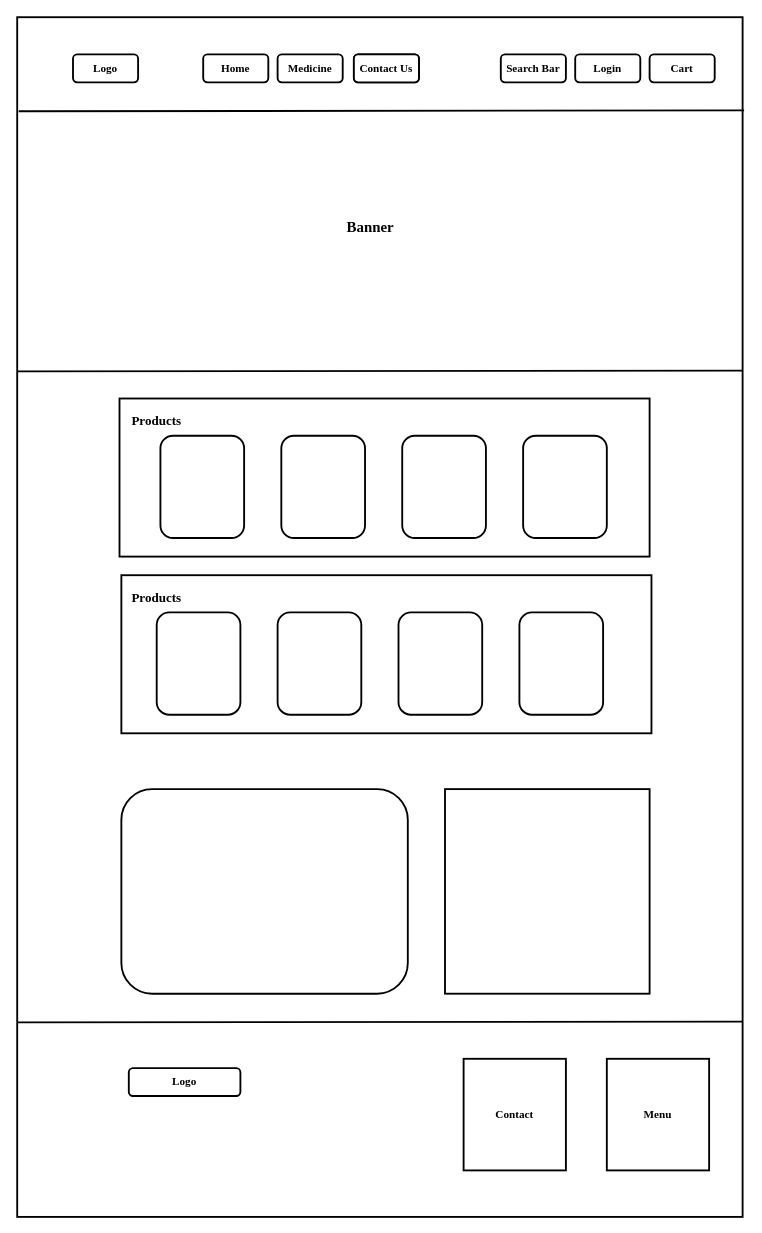
The diagram is 762 pixels wide and 1233 high, and some of its shapes have lost their labels. The shapes that lost their labels are listed below. From the top down, each one's centre as x and y in pixels, then its label:
(x=264, y=891): Image
(x=547, y=891): About Us
